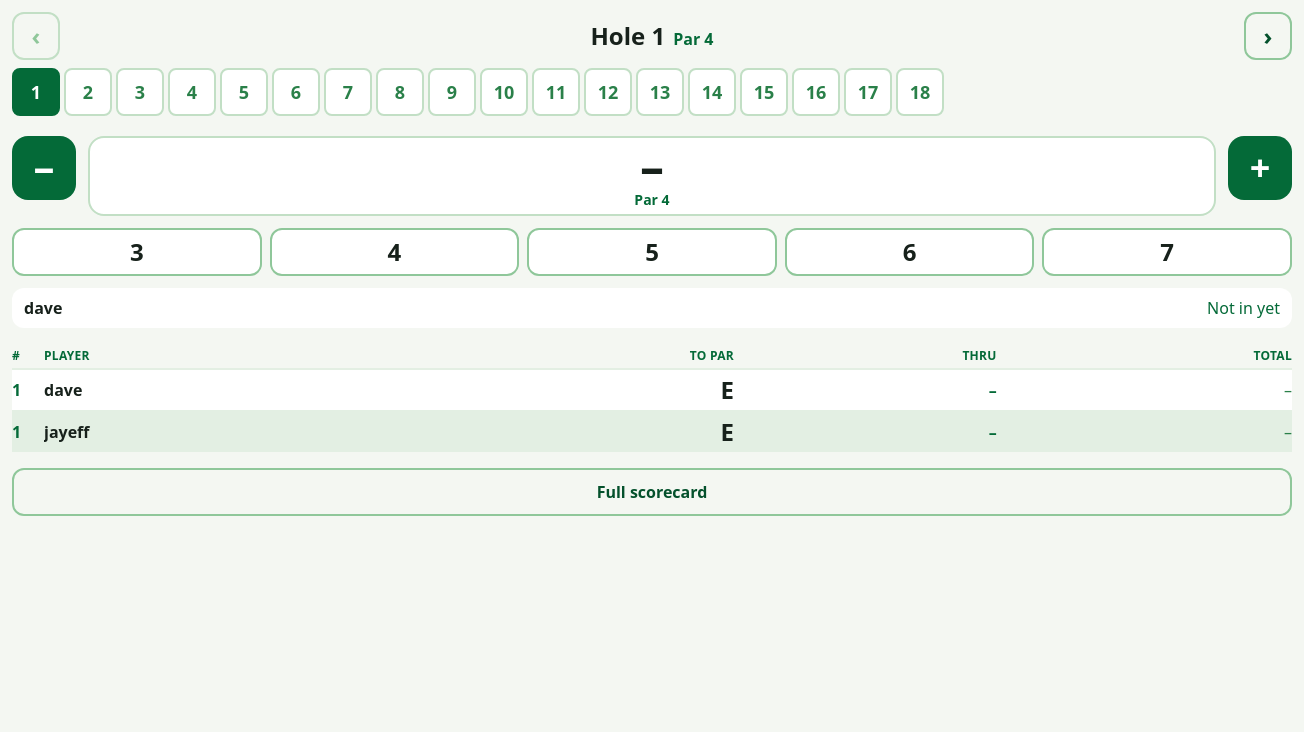
Test: RoundScoring › explains a refused write where the player can see it
This screenshot has width=1304, height=732.
Step 1. Click the button named "Score 4, par" → (394, 252), box [270,228,519,276]
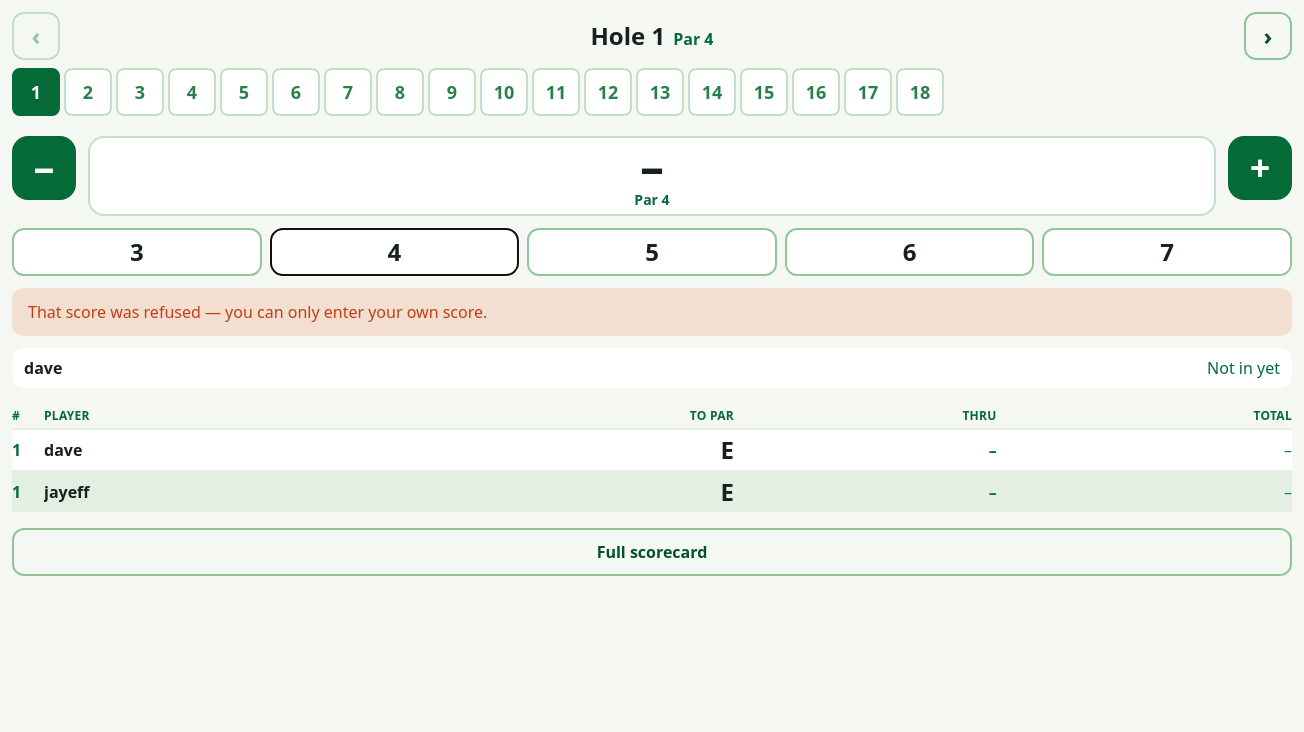
Expected: the message shows "you can only enter your own score", [28,301,487,323]
